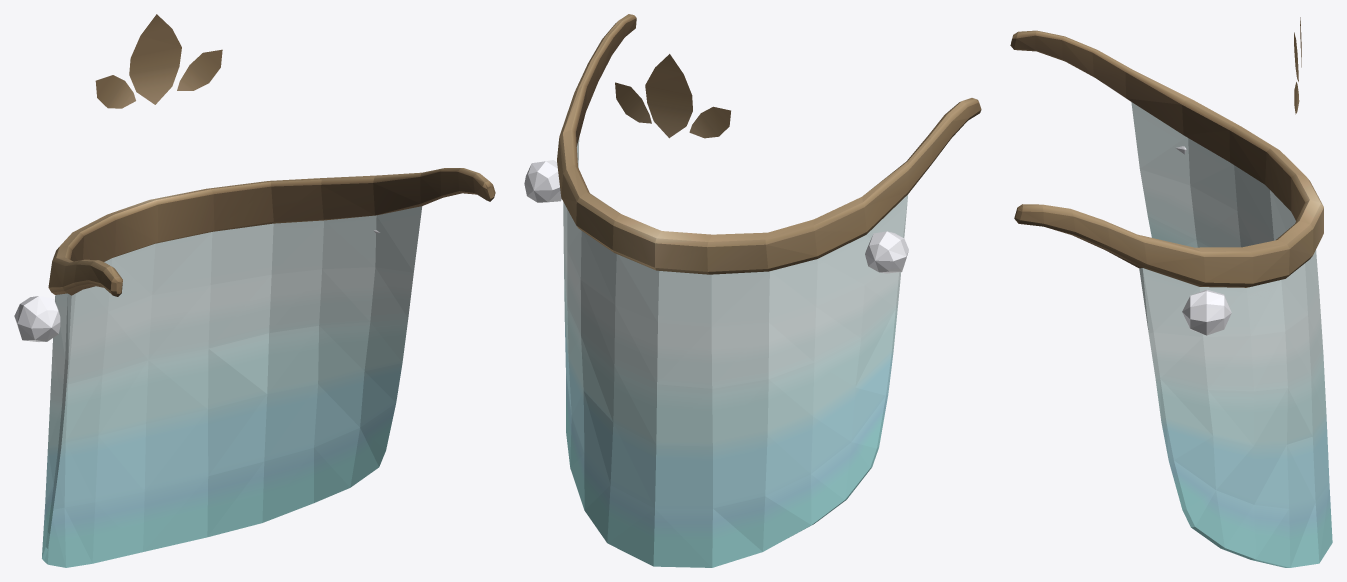
The model's file is CharSkyKid_Mask_MoonlightVeil.glb.
3 views of the same model, side by side, from view 1: azimuth 30°, elevation 25°; view 2: azimuth 150°, elevation 25°; view 3: azimuth 270°, elevation 25° (orthographic). The views are drawn at different scales.
Parts seen in each view (by area): view 1: CharSkyKid_Mask_MoonlightVeil; view 2: CharSkyKid_Mask_MoonlightVeil; view 3: CharSkyKid_Mask_MoonlightVeil.
Boxes of the visible parts, <box> form: CharSkyKid_Mask_MoonlightVeil: <box>14,14,495,567</box>; CharSkyKid_Mask_MoonlightVeil: <box>524,14,981,567</box>; CharSkyKid_Mask_MoonlightVeil: <box>1010,17,1332,567</box>.
Size of the model in its own units: 2.45 by 3.17 by 1.75.
Materials: 1 (1 with a texture image).
